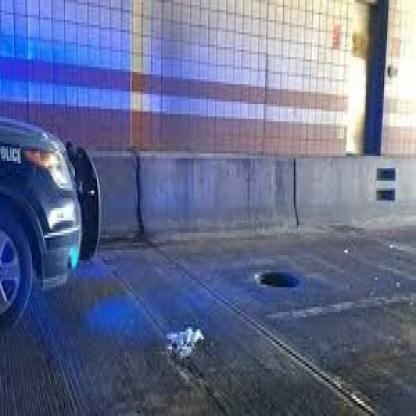manholes: (242, 238, 310, 317)
